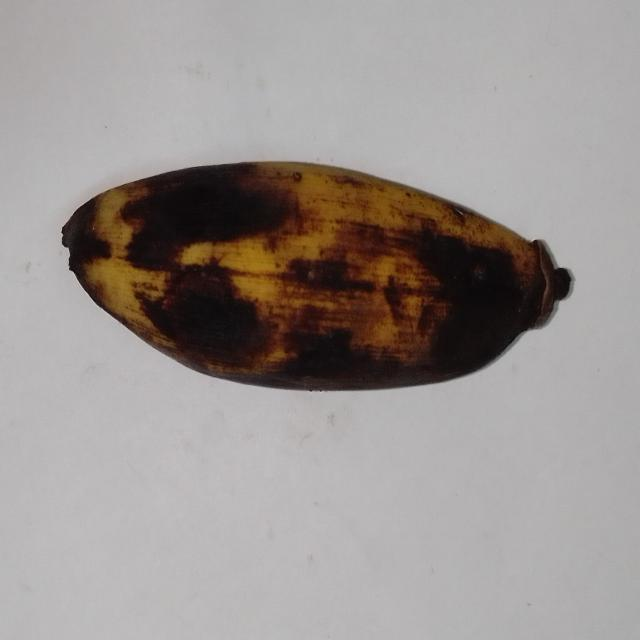banana: (63, 163, 570, 389)
